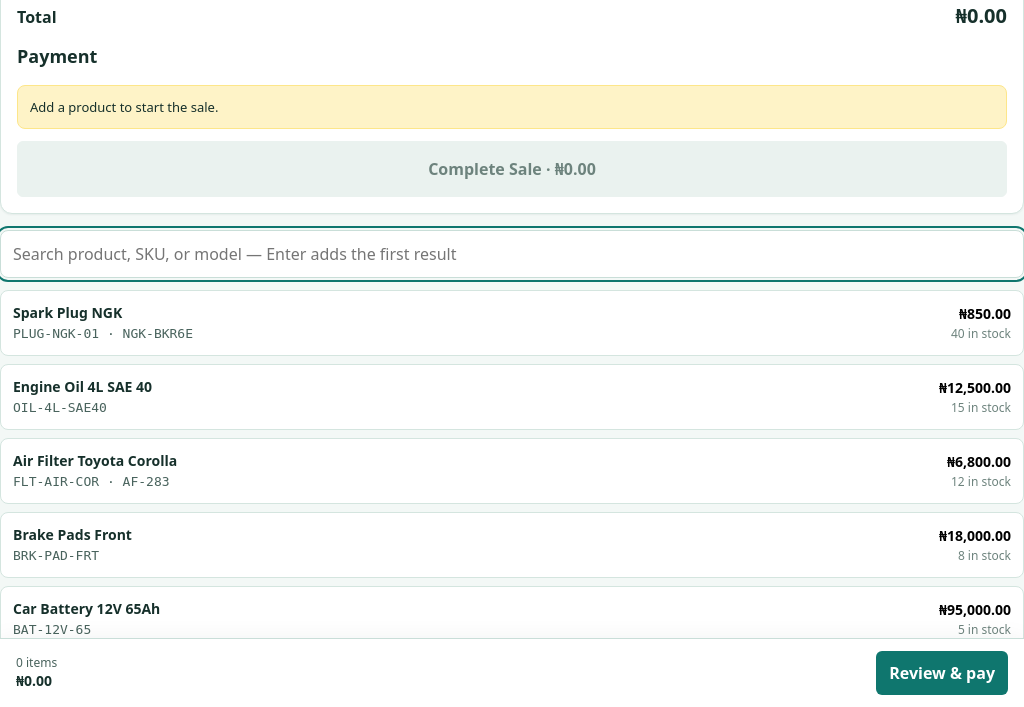
Test: POS journeys › creates a customer from the POS with a zero credit limit
(page scrolled)
Click the button "Spark Plug NGK PLUG-NGK-01 · NGK-BKR6E ₦850.00 40 in stock" at (68, 312), box x1=0 y1=290 x2=1023 y2=356
(page scrolled)
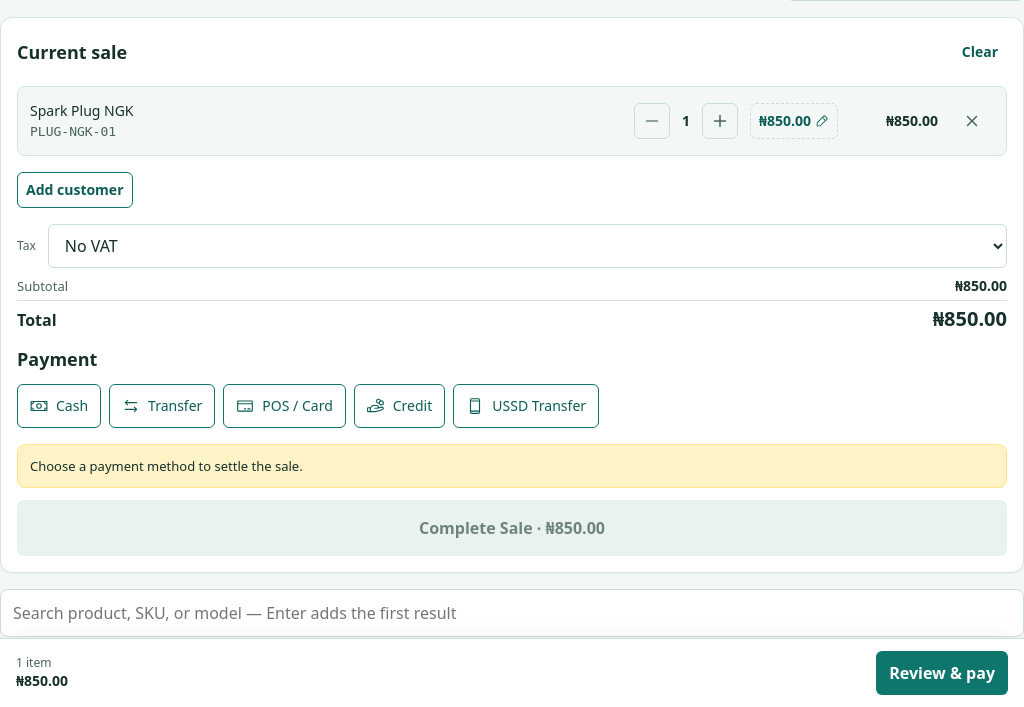
Click the button "Add customer" at (75, 190), box x1=17 y1=172 x2=132 y2=208
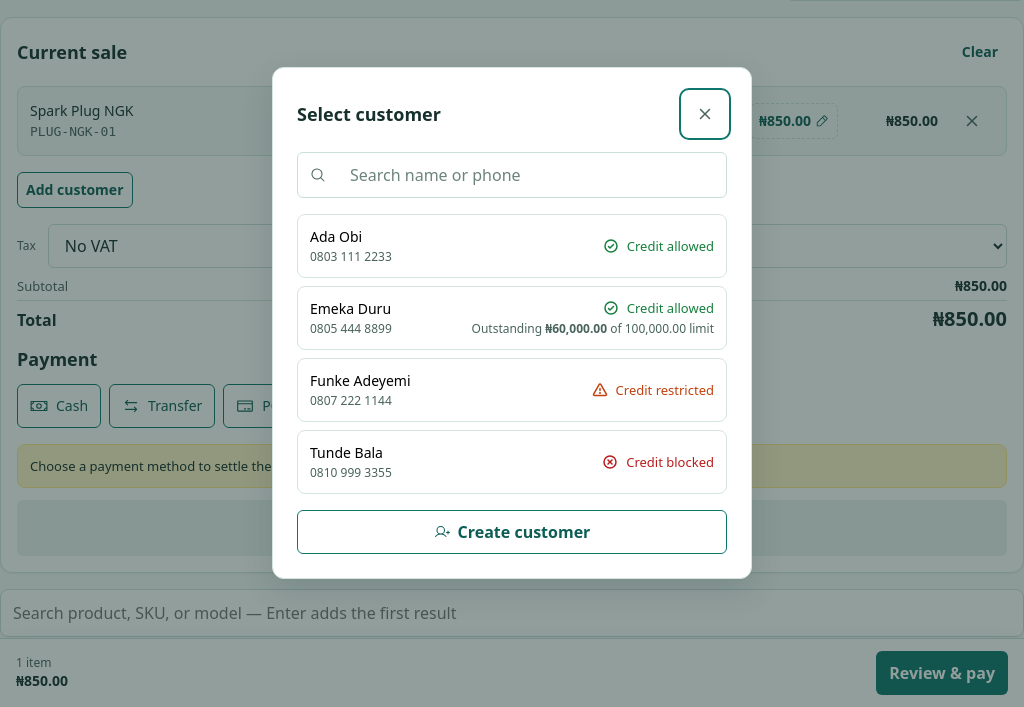
Click the button "Create customer" at (512, 532), box x1=297 y1=510 x2=727 y2=554
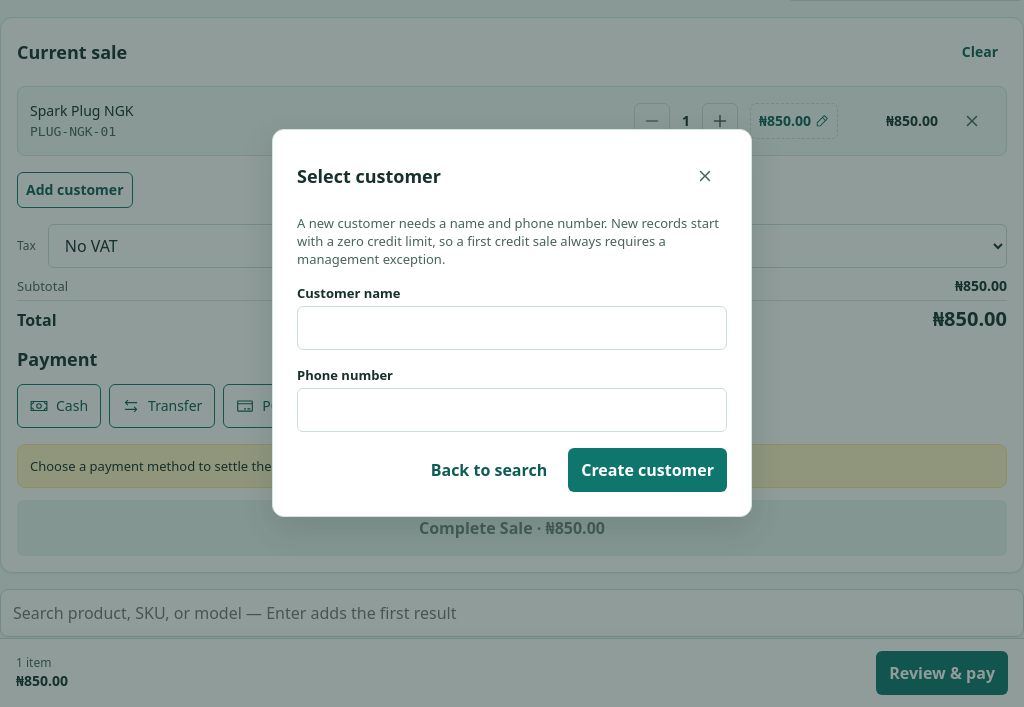
Type "Bola Ogun" into the field labelled "Customer name" at (512, 328), box x1=297 y1=306 x2=727 y2=350
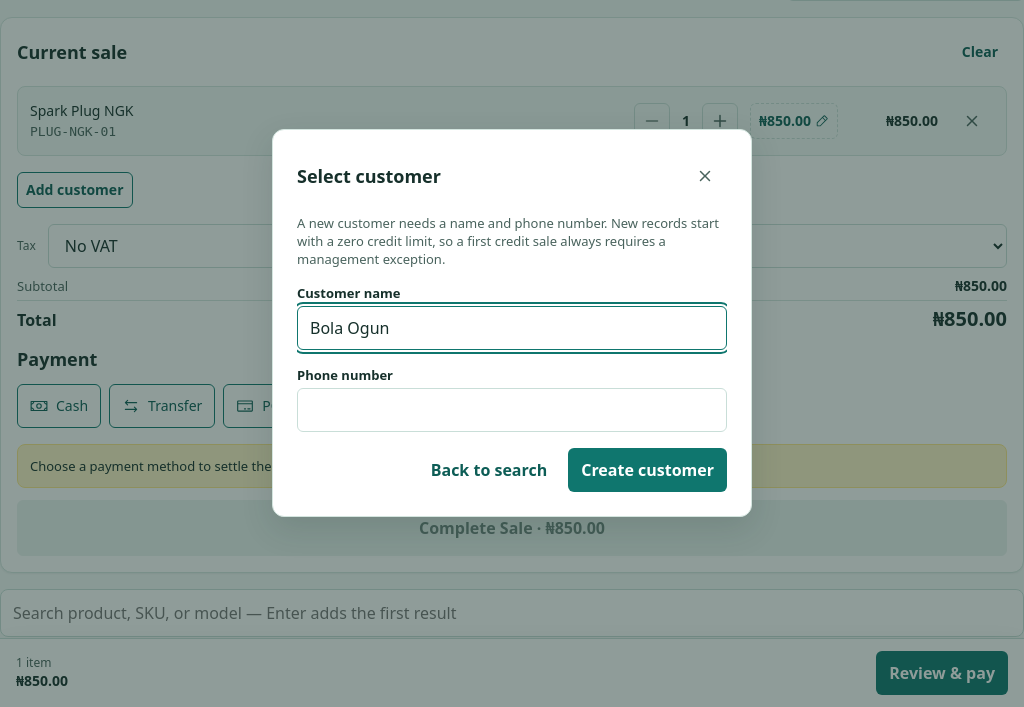
Type "0802 555 7777" into the field labelled "Phone number" at (512, 410), box x1=297 y1=388 x2=727 y2=432
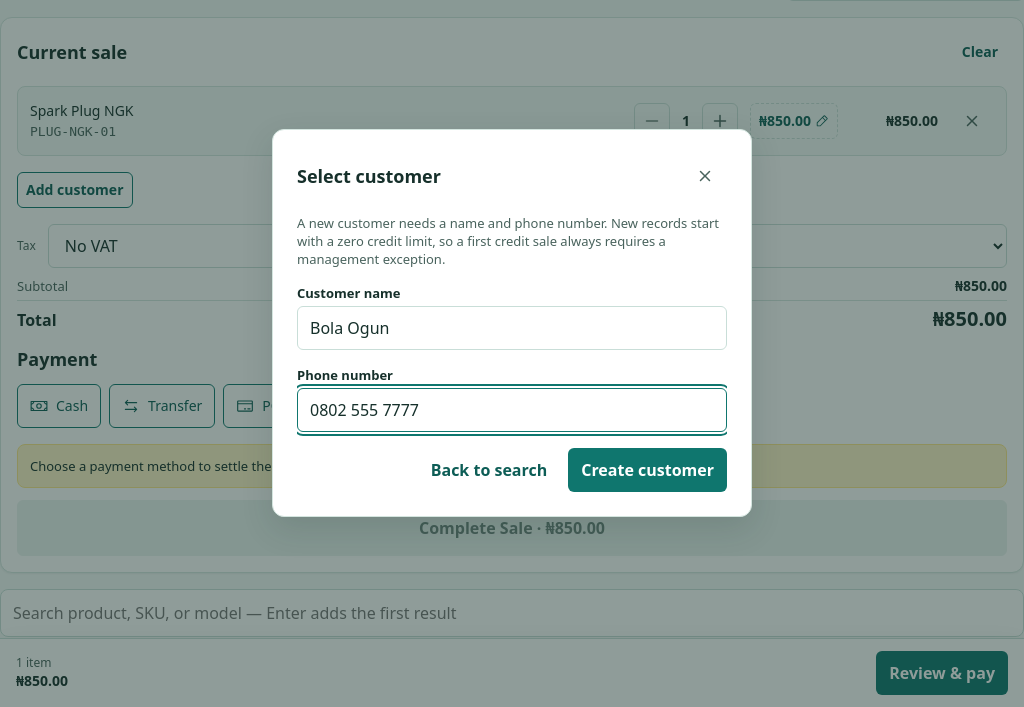
Click the button "Create customer" at (648, 470), box x1=568 y1=448 x2=727 y2=492
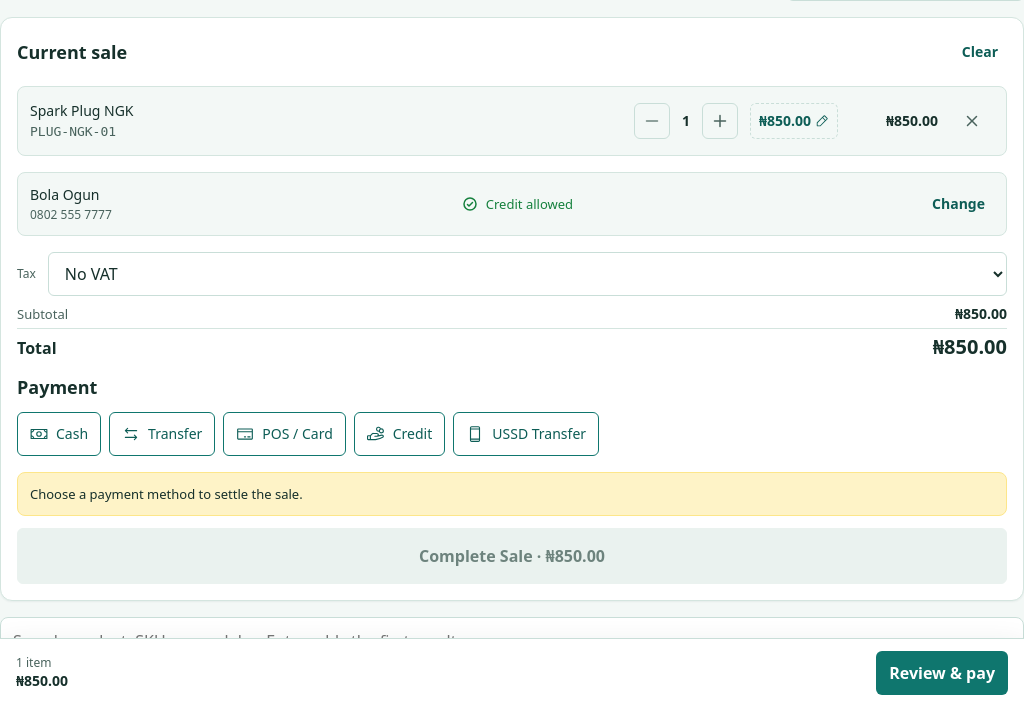
Now the text "Bola Ogun" is shown, box x1=30 y1=185 x2=112 y2=205
